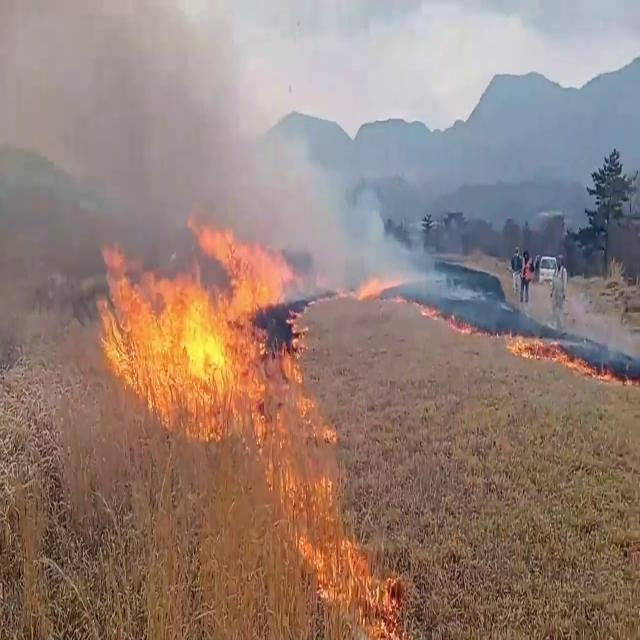Fire: (94, 216, 298, 428), (270, 396, 388, 621), (350, 264, 414, 306)
Smoke: (0, 2, 441, 302)
